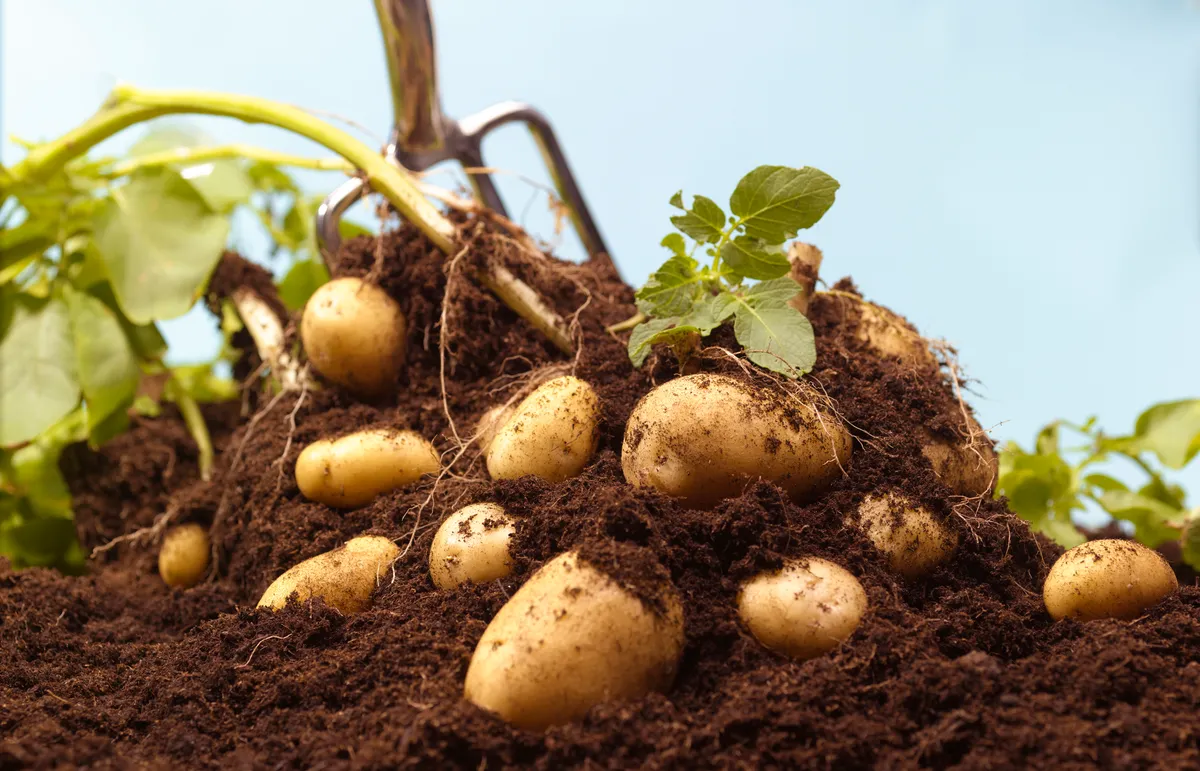potato: (597, 323, 847, 486)
